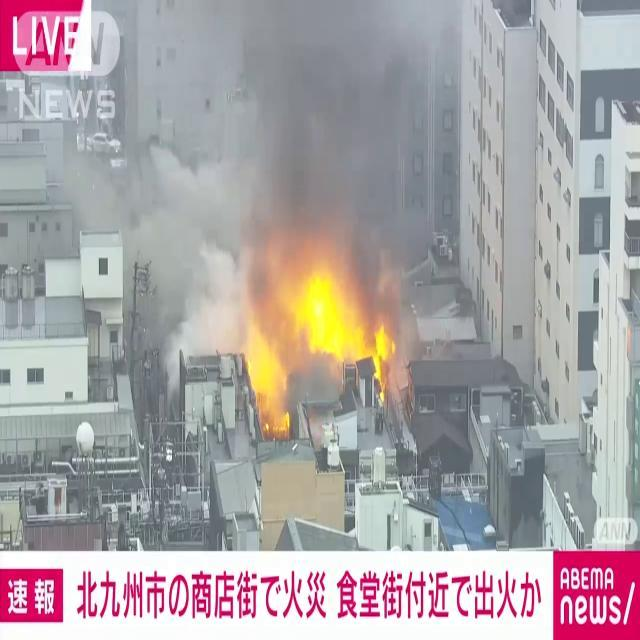Fire: (240, 246, 398, 427)
Smoke: (198, 1, 446, 298)
